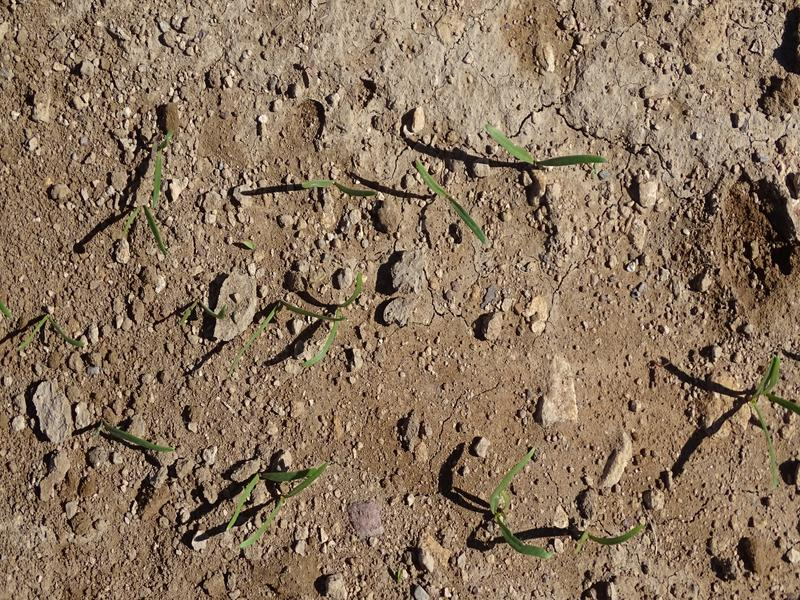Espinaca: (236, 265, 369, 365), (221, 463, 333, 544), (398, 156, 497, 246), (475, 120, 607, 175), (488, 475, 553, 563), (133, 154, 182, 256), (74, 413, 176, 459), (293, 170, 376, 204), (12, 312, 90, 348), (746, 355, 778, 439), (576, 521, 645, 548)
